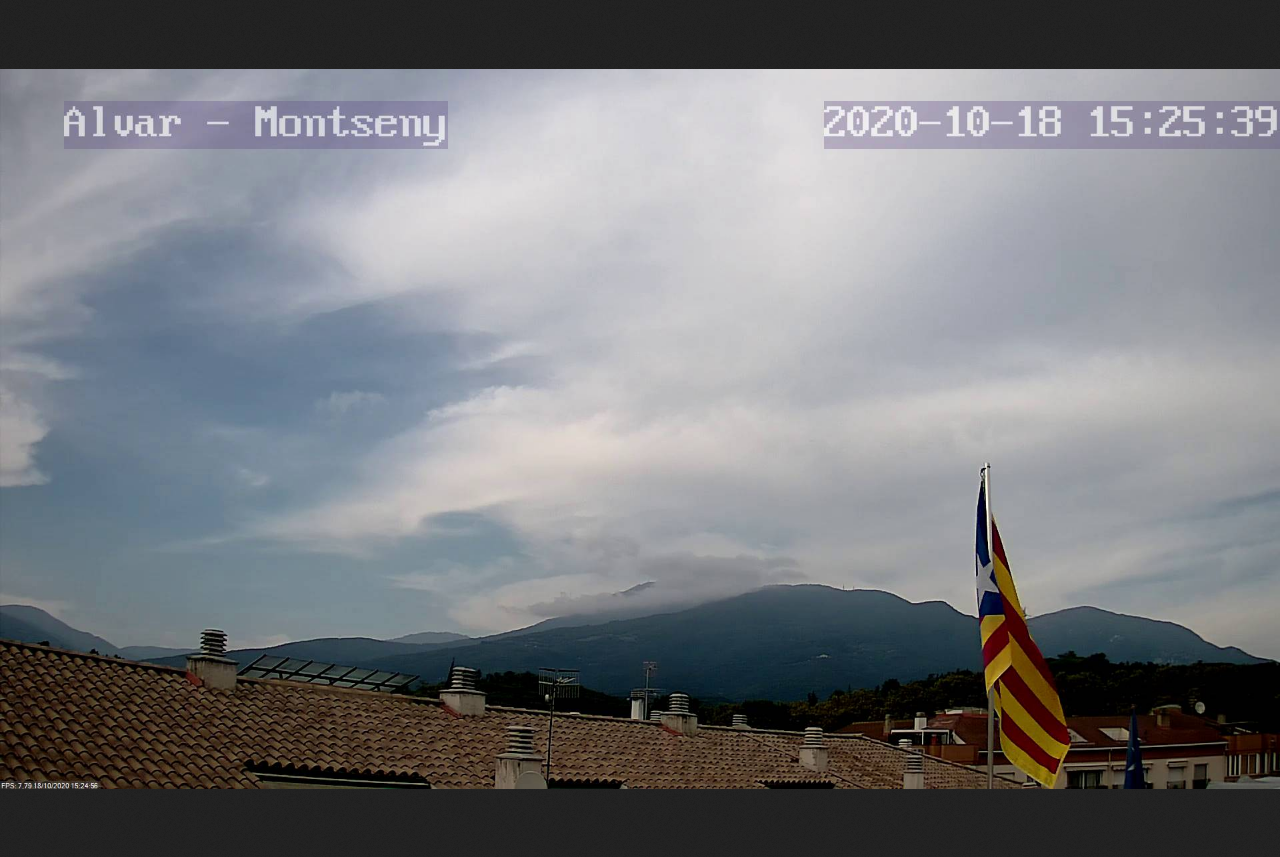no: (977, 490, 1078, 790)
